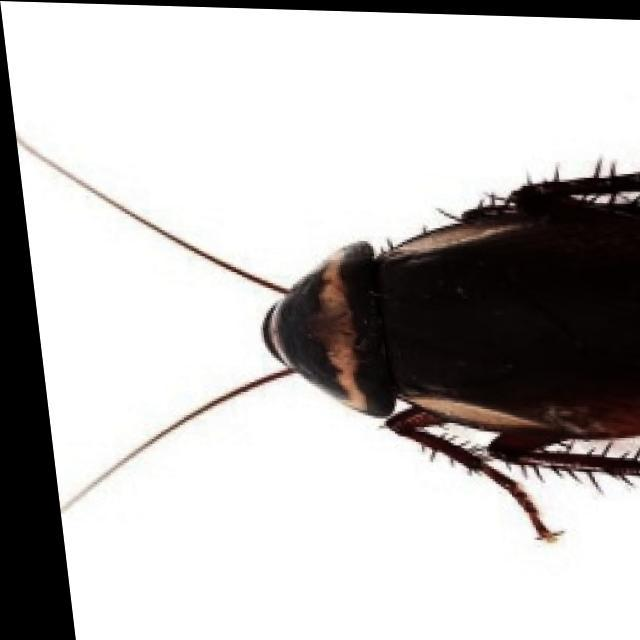cockroach: (224, 149, 640, 517)
